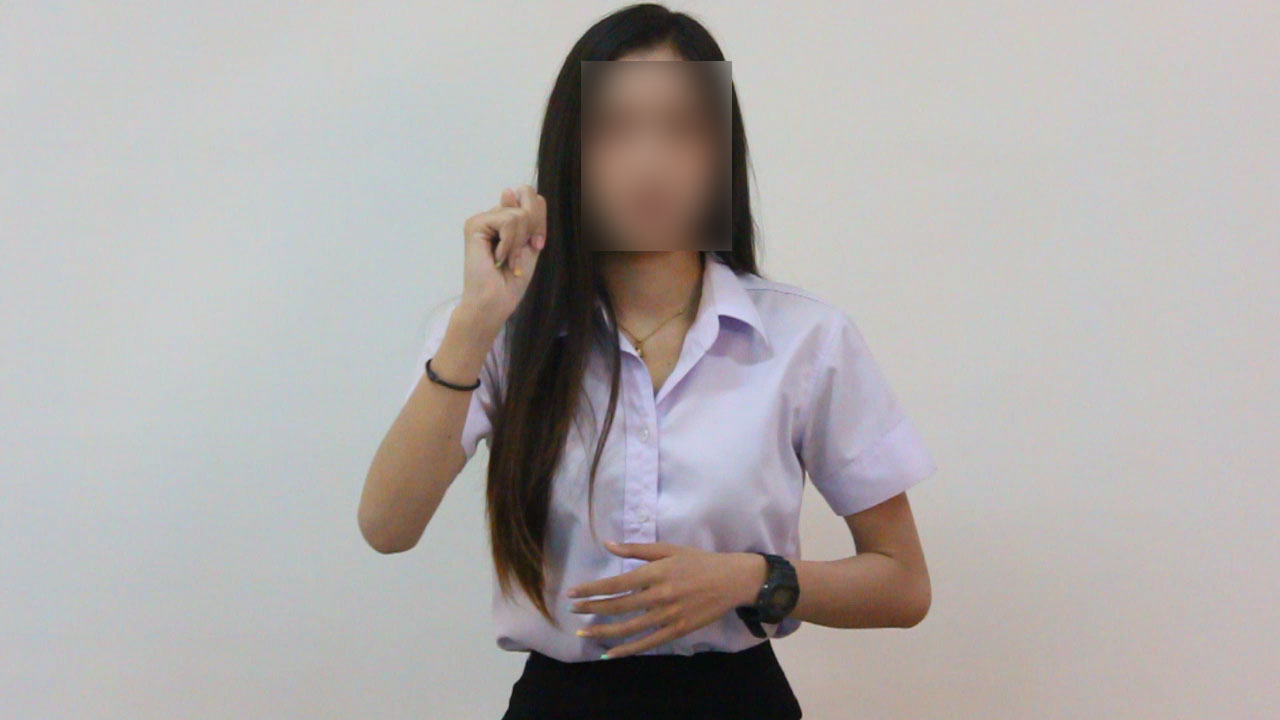nor: (446, 172, 558, 316)
